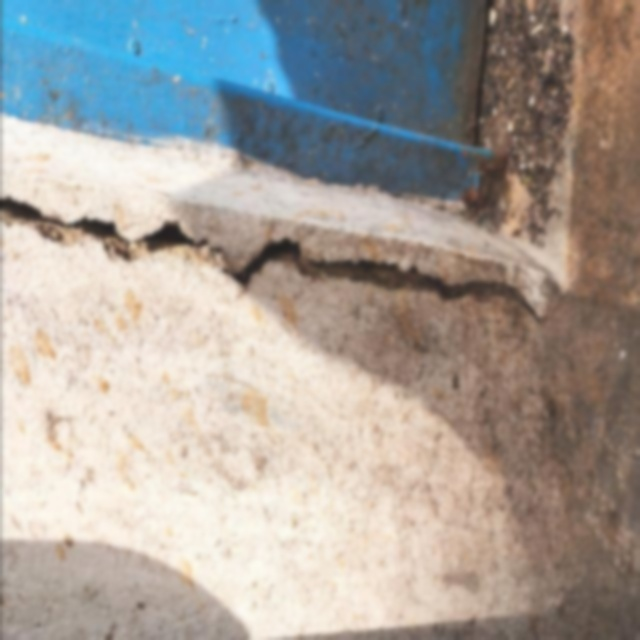SurfaceCrack: (0, 156, 569, 353)
